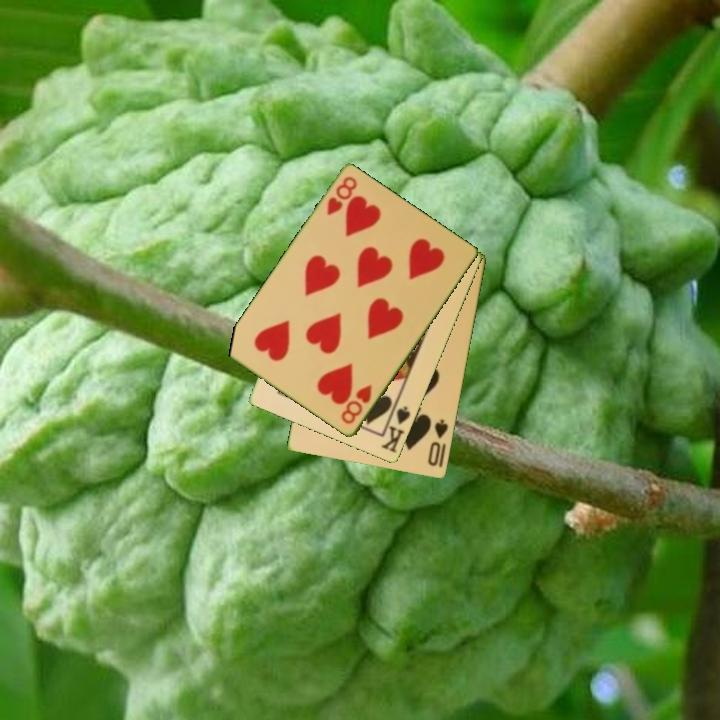10s: (425, 416, 451, 469)
8h: (338, 381, 375, 428), (323, 173, 360, 219)
Ks: (378, 403, 414, 456)
